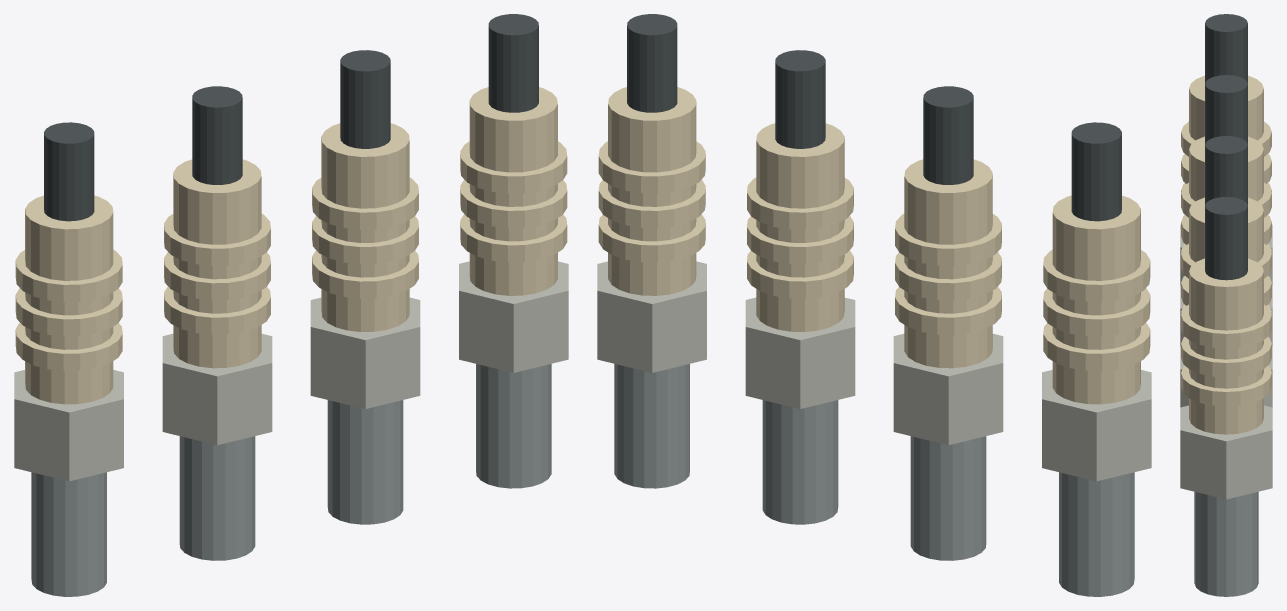
File: ENG_SparkPlugs.glb
The picture shows the model from 3 angles, left to right: view 1: azimuth 30°, elevation 25°; view 2: azimuth 150°, elevation 25°; view 3: azimuth 270°, elevation 25°; orthographic projection. The views are drawn at different scales.
Parts seen in each view (by area): view 1: Ceramic, Threads, Hex, InsulatorRibs, Tips; view 2: Ceramic, Threads, Hex, InsulatorRibs, Tips; view 3: Ceramic, Tips, InsulatorRibs, Hex, Threads.
Boxes of the visible parts, x1=… form: Ceramic: x1=25, y1=87, x2=557, y2=404; Threads: x1=31, y1=364, x2=551, y2=596; Hex: x1=14, y1=261, x2=568, y2=481; InsulatorRibs: x1=15, y1=141, x2=567, y2=370; Tips: x1=44, y1=14, x2=538, y2=221; Ceramic: x1=608, y1=87, x2=1140, y2=404; Threads: x1=614, y1=364, x2=1134, y2=596; Hex: x1=597, y1=261, x2=1151, y2=481; InsulatorRibs: x1=598, y1=141, x2=1150, y2=370; Tips: x1=627, y1=14, x2=1121, y2=221; Ceramic: x1=1189, y1=75, x2=1263, y2=434; Tips: x1=1205, y1=14, x2=1247, y2=280; InsulatorRibs: x1=1181, y1=121, x2=1271, y2=406; Hex: x1=1180, y1=224, x2=1272, y2=499; Threads: x1=1194, y1=491, x2=1258, y2=596.
Bounding box in the file's own units: 0.101 × 0.078 × 0.0173.
